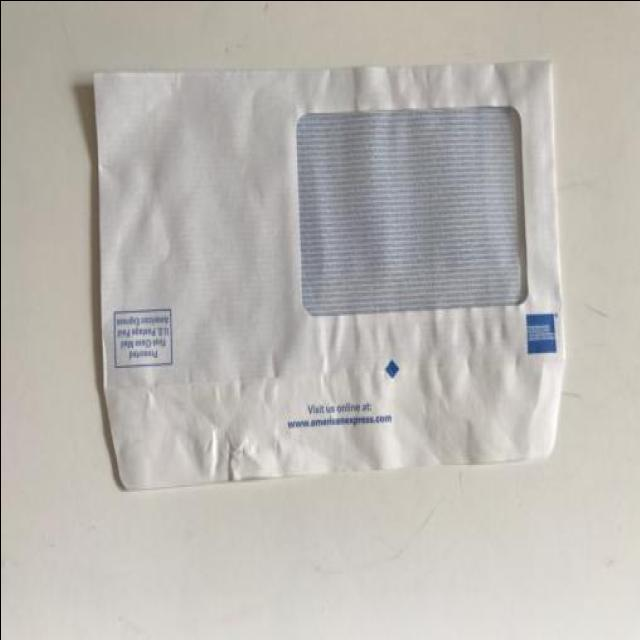kertas: (90, 54, 568, 492)
